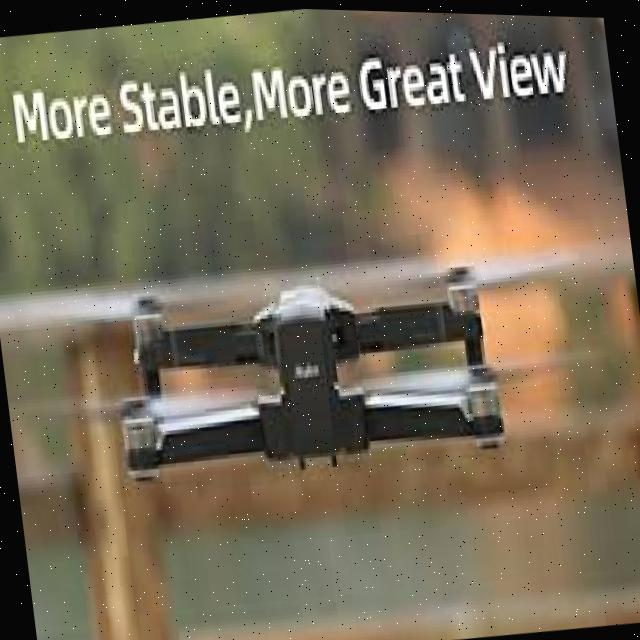drone: (44, 215, 596, 534)
